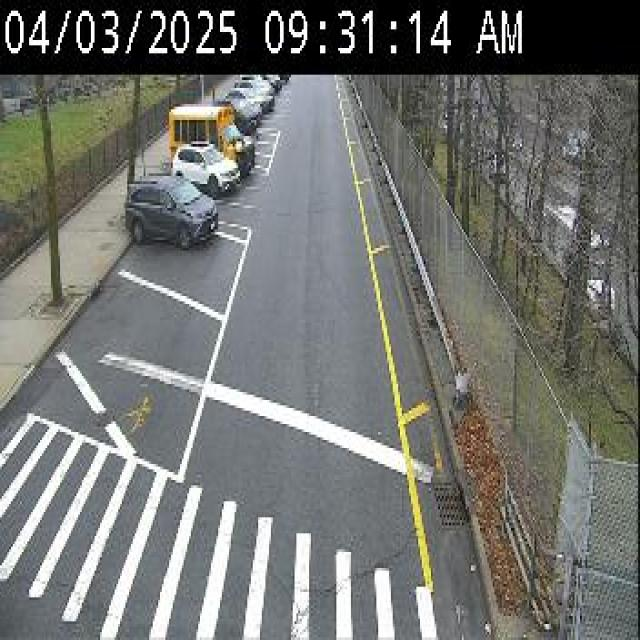open parking: (69, 141, 260, 469)
